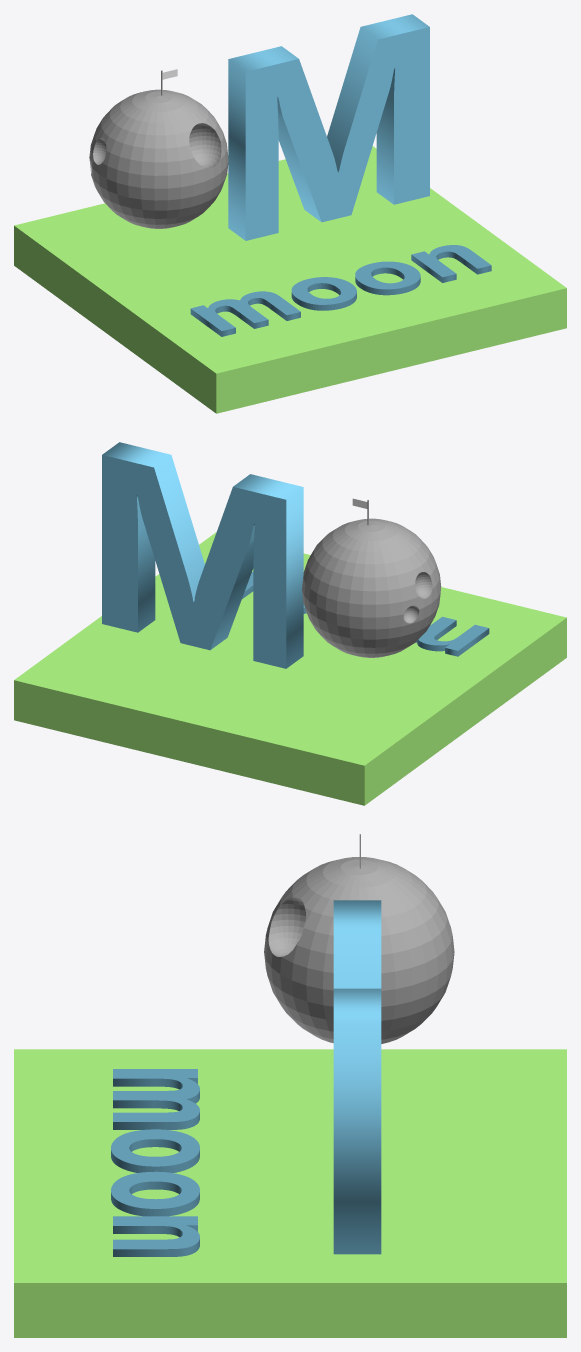
Rendered from mletter.glb.
3 views of the same model, one above another, from view 1: azimuth 30°, elevation 25°; view 2: azimuth 150°, elevation 25°; view 3: azimuth 270°, elevation 25° (orthographic). The views are drawn at different scales.
Parts seen in each view (by area): view 1: Cube.022, Text.003, Sphere, Text.002; view 2: Cube.022, Text.003, Sphere, Text.002; view 3: Cube.022, Sphere, Text.003, Text.002.
Boxes of the visible parts, x1,y1,x2,y2 form: Cube.022: (14,146,566,413); Text.003: (228,14,429,240); Sphere: (89,89,228,228); Text.002: (190,245,491,336); Cube.022: (14,532,566,805); Text.003: (102,442,303,668); Sphere: (302,518,441,657); Text.002: (242,572,489,656); Cube.022: (14,1049,566,1337); Sphere: (264,857,454,1043); Text.003: (333,900,381,1254); Text.002: (111,1069,199,1256).
Size of the model in its own units: 0.3237 by 0.2054 by 0.3237.
